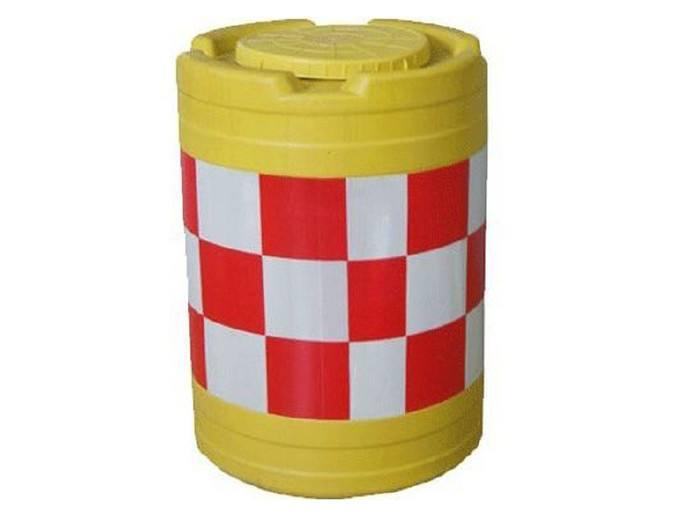sign: (159, 14, 507, 495)
